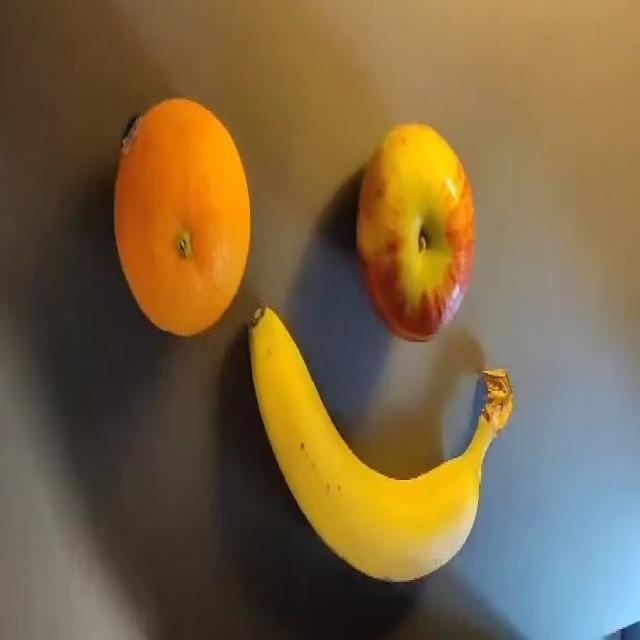Apple: (355, 121, 476, 342)
Banana: (247, 305, 514, 583)
Orange: (112, 96, 251, 337)
